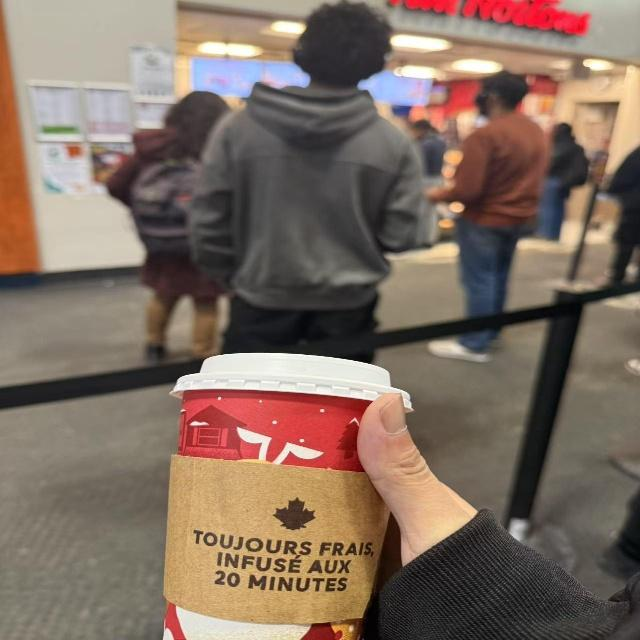timmies: (154, 349, 416, 640)
